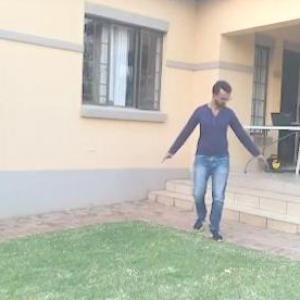land: (157, 79, 260, 248)
